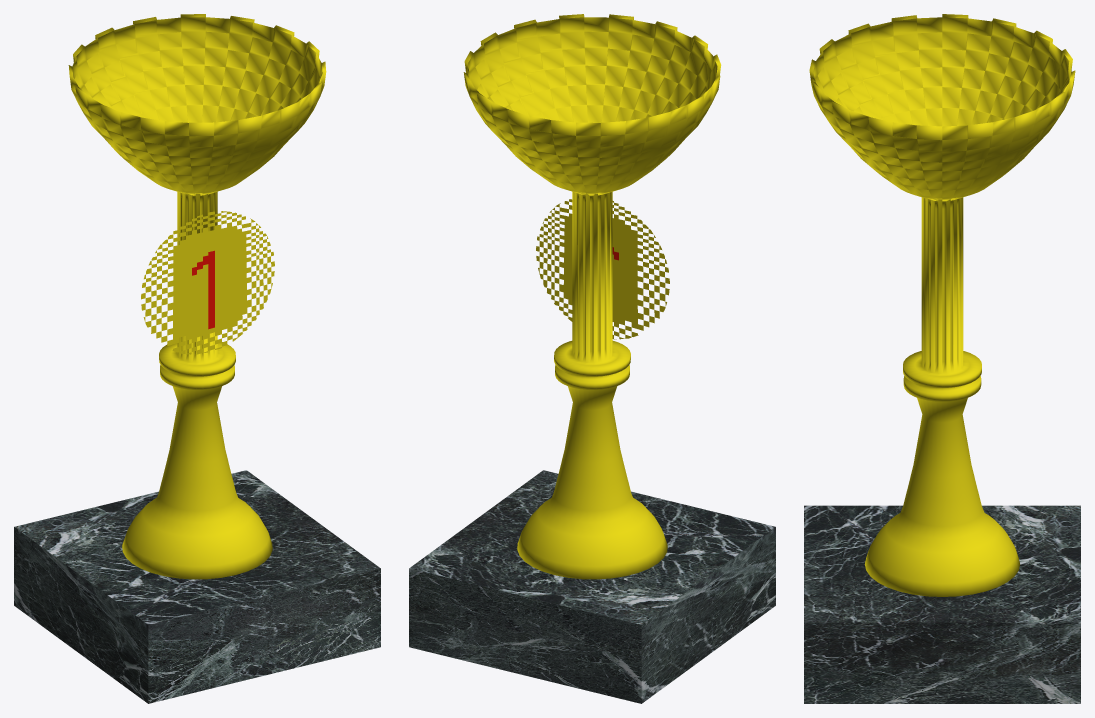
The model's file is golden_ball.glb.
The picture shows the model from 3 angles, left to right: view 1: azimuth 30°, elevation 25°; view 2: azimuth 150°, elevation 25°; view 3: azimuth 270°, elevation 25°; orthographic projection. The views are drawn at different scales.
Parts seen in each view (by area): view 1: Sphere_3, Cube_0, Circle_4; view 2: Sphere_3, Cube_0, Circle_4; view 3: Sphere_3, Cube_0.
Boxes of the visible parts, x1,y1,x2,y2 form: Sphere_3: (68, 14, 326, 579); Cube_0: (14, 470, 380, 703); Circle_4: (141, 211, 274, 354); Sphere_3: (463, 14, 721, 579); Cube_0: (409, 470, 775, 703); Circle_4: (536, 199, 669, 339); Sphere_3: (809, 14, 1075, 596); Cube_0: (804, 505, 1080, 703).
Size of the model in its own units: 1.71 by 3.93 by 1.71.
Materials: 3 (1 with a texture image).
